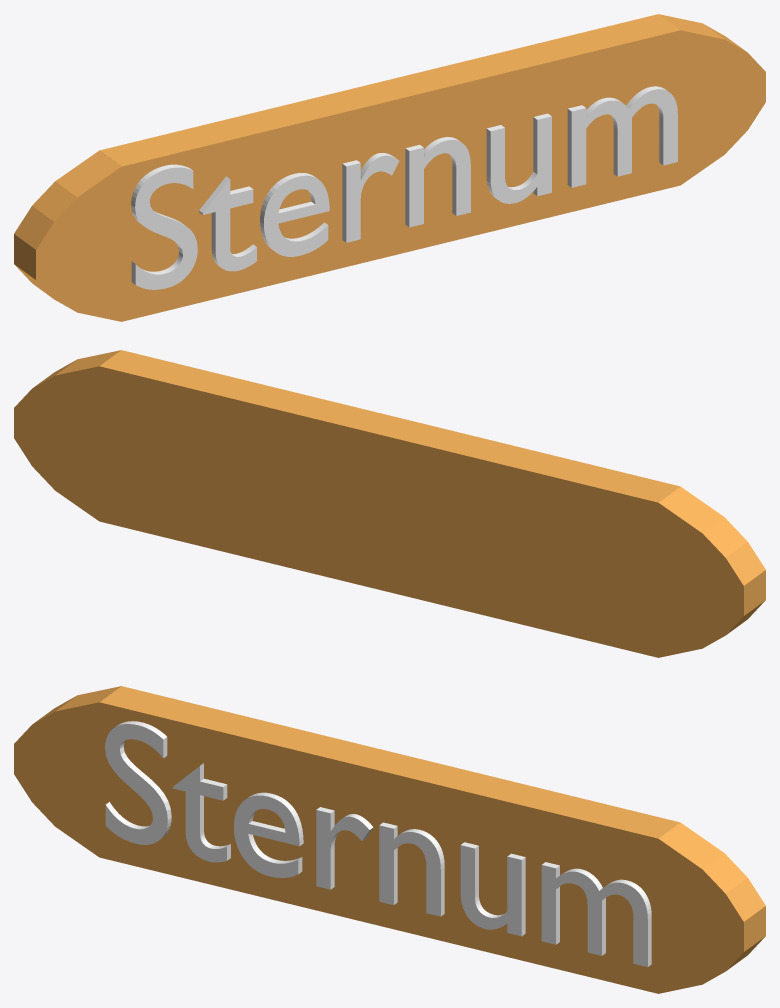
Rendered from txtSternum.fbx.
The picture shows the model from 3 angles, top to bottom: view 1: azimuth 30°, elevation 25°; view 2: azimuth 150°, elevation 25°; view 3: azimuth 330°, elevation 25°; orthographic projection.
Parts seen in each view (by area): view 1: TagContainer.004, Text.004; view 2: TagContainer.004; view 3: TagContainer.004, Text.004.
Part boxes in pixels (bbox=[...]): TagContainer.004: bbox=[14, 14, 765, 321]; Text.004: bbox=[131, 86, 677, 289]; TagContainer.004: bbox=[14, 350, 765, 657]; TagContainer.004: bbox=[14, 686, 765, 993]; Text.004: bbox=[105, 721, 651, 966].
Bounding box in the file's own units: 203 × 41.3 × 12.58.
